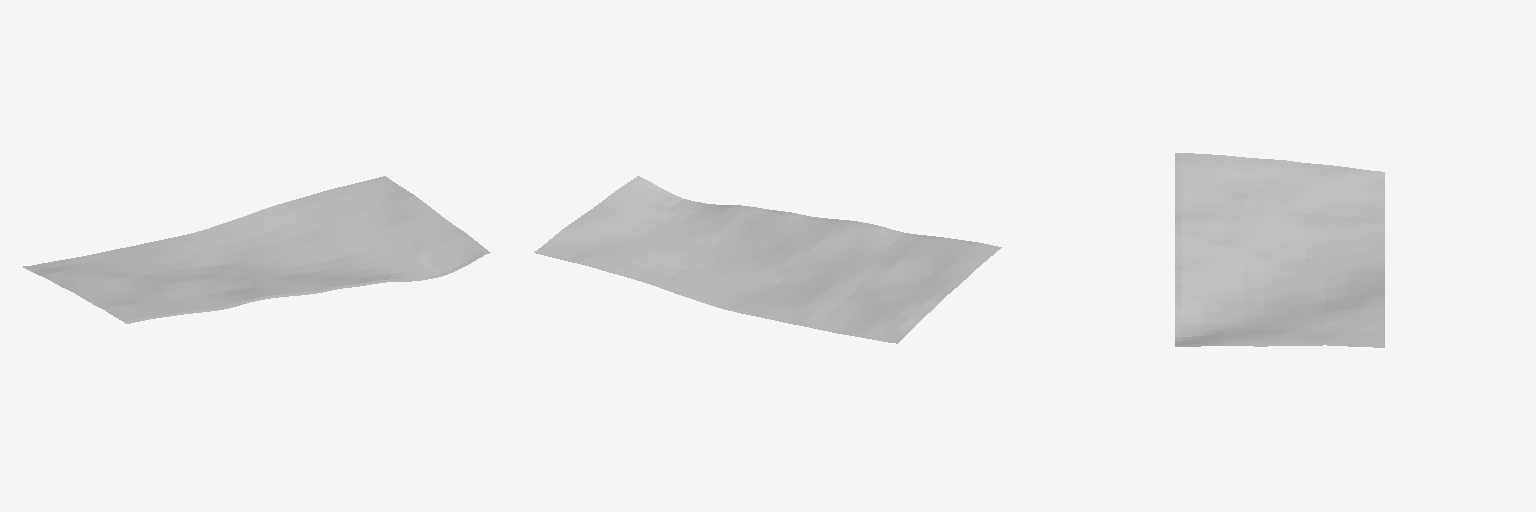
The model's file is terrain.obj.
3 renders of one model, left to right at view 1: azimuth 30°, elevation 25°; view 2: azimuth 150°, elevation 25°; view 3: azimuth 270°, elevation 25°, orthographic.
Visible parts, largest first — view 1: EXPORT_GOOGLE_SAT_WM_EXPORT_GOOGLE_SAT_WM.001; view 2: EXPORT_GOOGLE_SAT_WM_EXPORT_GOOGLE_SAT_WM.001; view 3: EXPORT_GOOGLE_SAT_WM_EXPORT_GOOGLE_SAT_WM.001.
Boxes of the visible parts, x1=… form: EXPORT_GOOGLE_SAT_WM_EXPORT_GOOGLE_SAT_WM.001: x1=23, y1=176, x2=490, y2=323; EXPORT_GOOGLE_SAT_WM_EXPORT_GOOGLE_SAT_WM.001: x1=534, y1=176, x2=1001, y2=343; EXPORT_GOOGLE_SAT_WM_EXPORT_GOOGLE_SAT_WM.001: x1=1175, y1=153, x2=1384, y2=347.
Bounding box in the file's own units: 917 × 69.96 × 459.